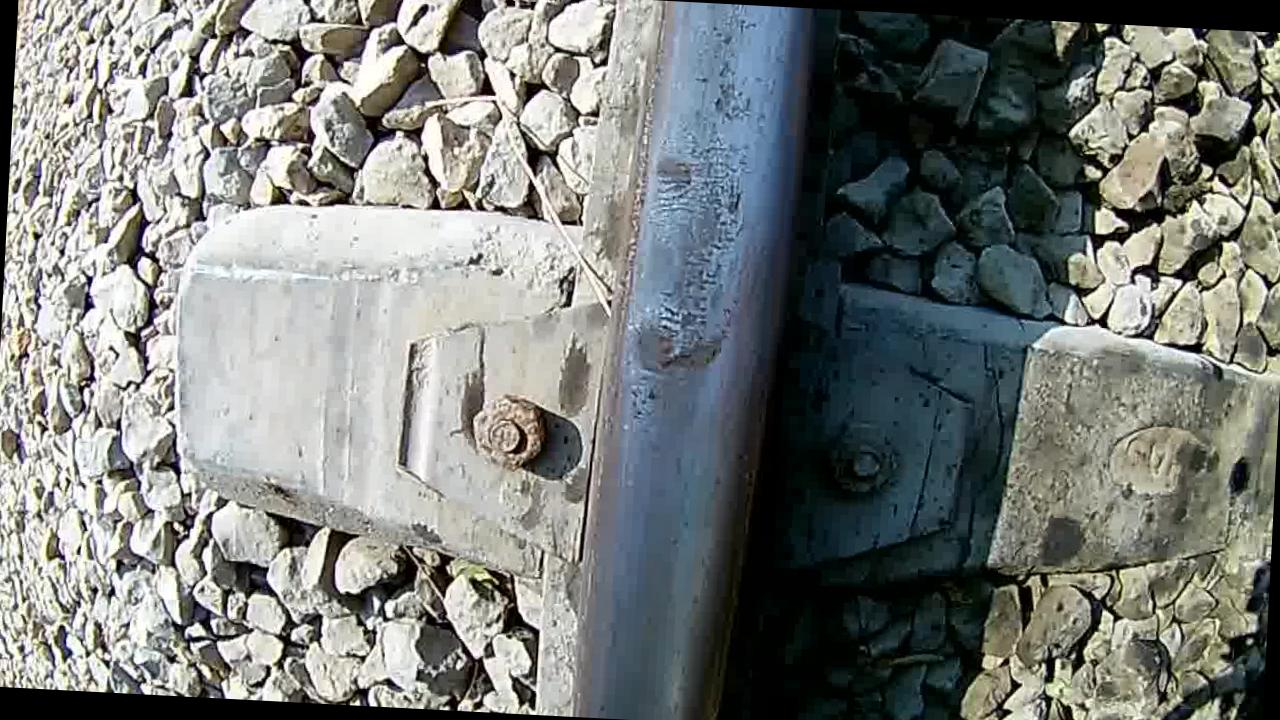crack: (570, 0, 814, 720)
